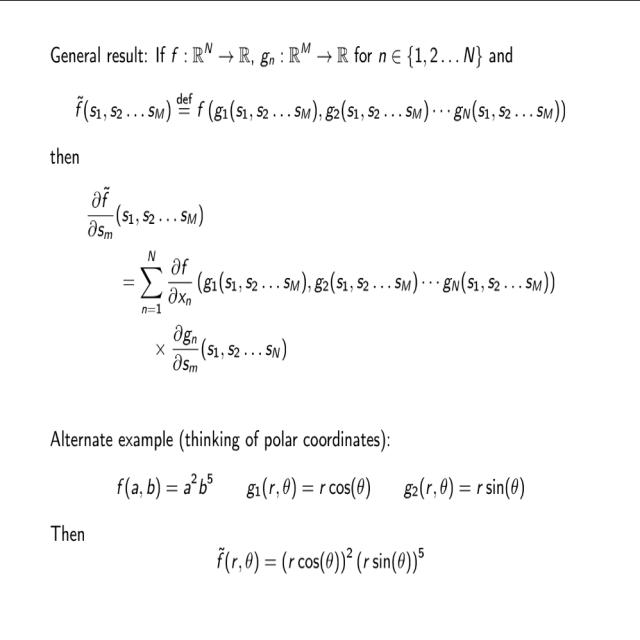equations: (78, 180, 563, 380), (72, 88, 569, 132), (169, 38, 483, 78), (208, 538, 428, 588), (400, 461, 529, 509), (242, 464, 375, 510), (112, 466, 218, 506)
